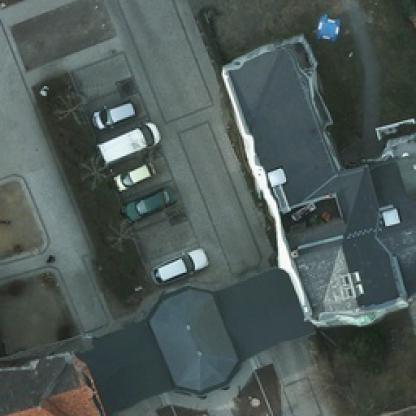car: (152, 249, 210, 286), (126, 185, 180, 218), (92, 98, 136, 132), (110, 160, 154, 188)
van: (95, 120, 160, 168)
